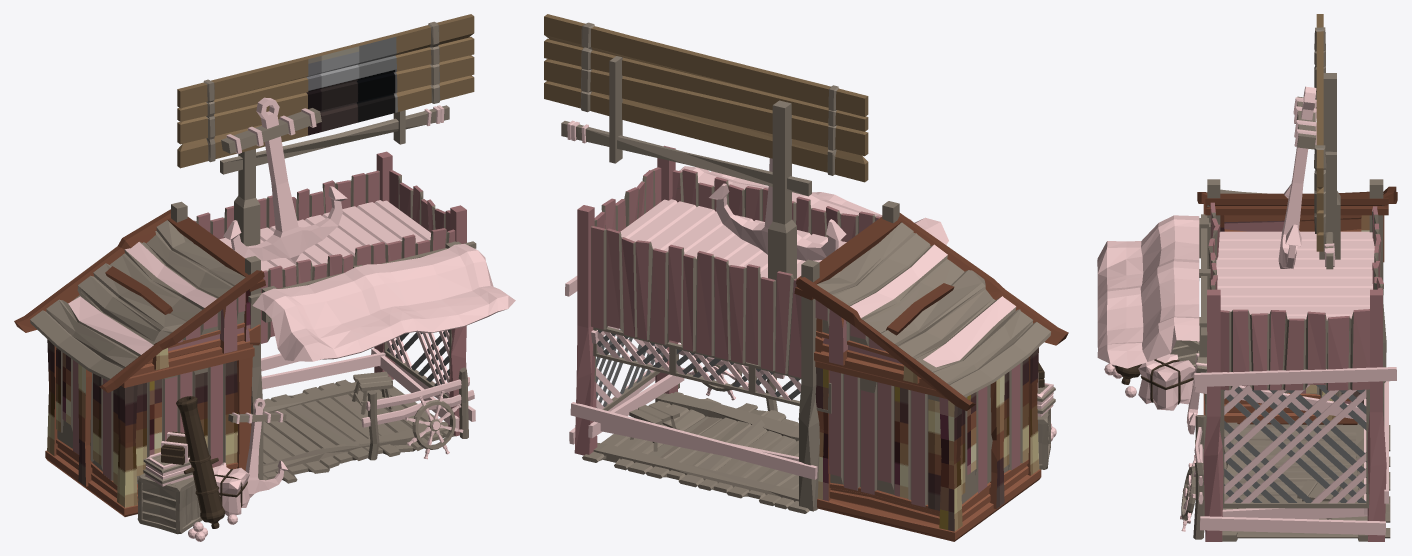
File: SM_Bld_Shop_01.glb
The picture shows the model from 3 angles, left to right: view 1: azimuth 30°, elevation 25°; view 2: azimuth 150°, elevation 25°; view 3: azimuth 270°, elevation 25°; orthographic projection. The views are drawn at different scales.
Parts seen in each view (by area): view 1: SM_Bld_Shop_01_00; view 2: SM_Bld_Shop_01_00; view 3: SM_Bld_Shop_01_00.
Boxes of the visible parts, x1,y1,x2,y2 form: SM_Bld_Shop_01_00: (14,14,515,541); SM_Bld_Shop_01_00: (544,14,1068,541); SM_Bld_Shop_01_00: (1097,14,1397,541).
Bounding box in the file's own units: 8.09 × 6.83 × 4.51.
1 material, 1 textured.
